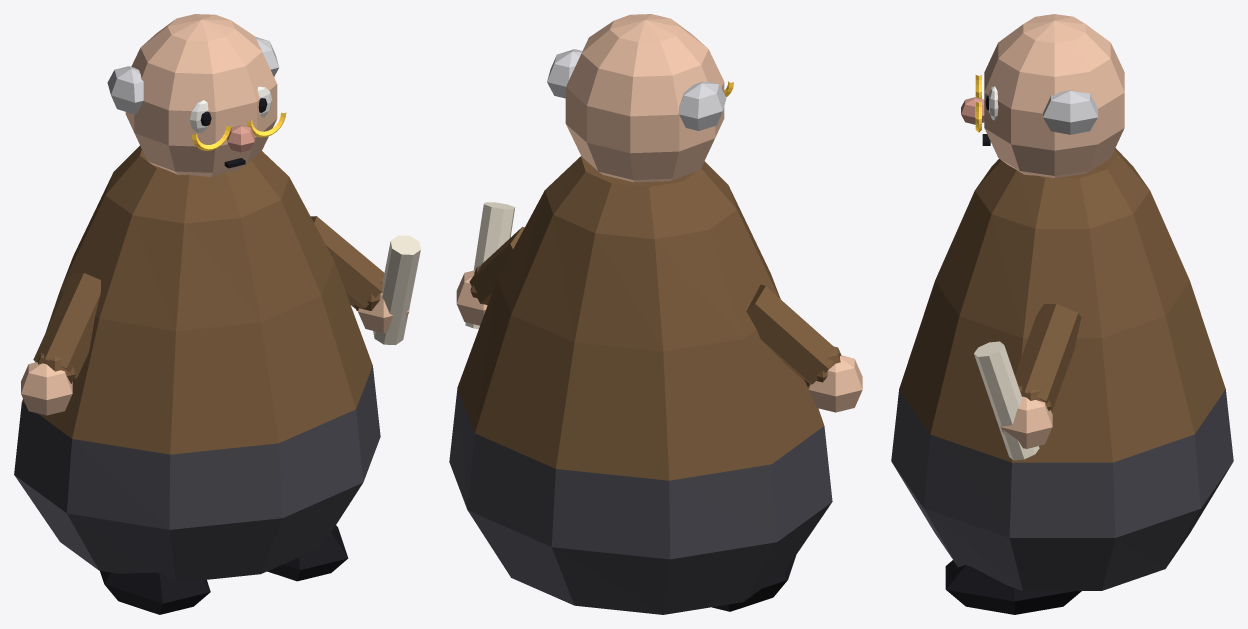
Rendered from npc_susurro.glb.
3 renders of one model, left to right at view 1: azimuth 30°, elevation 25°; view 2: azimuth 150°, elevation 25°; view 3: azimuth 270°, elevation 25°, orthographic. The views are drawn at different scales.
Parts seen in each view (by area): view 1: body_prompter_cardigan, body_prompter_pants, head_skin_rosada, arms_prompter_cardigan, legs_black, props_script_paper, arms_skin_rosada, hair_hair_grey, face_white, face_gold, face_nose; view 2: body_prompter_cardigan, body_prompter_pants, head_skin_rosada, arms_prompter_cardigan, arms_skin_rosada, hair_hair_grey (×2), props_script_paper, legs_black; view 3: body_prompter_cardigan, body_prompter_pants, head_skin_rosada, arms_prompter_cardigan, legs_black, props_script_paper, hair_hair_grey, arms_skin_rosada.
Boxes of the visible parts, bbox=[...] form: body_prompter_cardigan: bbox=[22, 145, 372, 454]; body_prompter_pants: bbox=[14, 366, 380, 581]; head_skin_rosada: bbox=[125, 14, 277, 176]; arms_prompter_cardigan: bbox=[33, 216, 384, 383]; legs_black: bbox=[100, 525, 348, 614]; props_script_paper: bbox=[373, 235, 420, 345]; arms_skin_rosada: bbox=[21, 293, 409, 415]; hair_hair_grey: bbox=[107, 66, 143, 114]; face_white: bbox=[190, 86, 272, 132]; face_gold: bbox=[191, 112, 286, 150]; face_nose: bbox=[227, 125, 254, 152]; body_prompter_cardigan: bbox=[457, 156, 824, 480]; body_prompter_pants: bbox=[449, 388, 832, 614]; head_skin_rosada: bbox=[565, 14, 724, 182]; arms_prompter_cardigan: bbox=[469, 226, 841, 386]; arms_skin_rosada: bbox=[456, 270, 862, 412]; hair_hair_grey (×2): bbox=[547, 49, 726, 130]; props_script_paper: bbox=[465, 202, 515, 329]; legs_black: bbox=[712, 555, 796, 611]; body_prompter_cardigan: bbox=[899, 148, 1225, 462]; body_prompter_pants: bbox=[891, 389, 1233, 590]; head_skin_rosada: bbox=[984, 14, 1124, 177]; arms_prompter_cardigan: bbox=[1015, 304, 1081, 410]; legs_black: bbox=[945, 560, 1081, 614]; props_script_paper: bbox=[974, 341, 1039, 460]; hair_hair_grey: bbox=[1043, 90, 1097, 134]; arms_skin_rosada: bbox=[1000, 396, 1052, 448].
Bounding box in the file's own units: 1.13 × 1.53 × 0.86.
